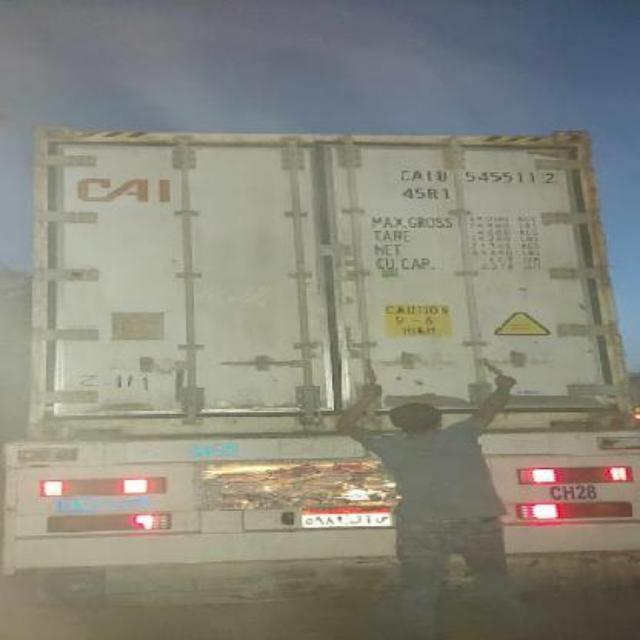1: (528, 172, 542, 184), (518, 172, 524, 184)
2: (544, 173, 556, 185)
4: (478, 172, 490, 182)
5: (464, 170, 476, 182), (490, 172, 502, 182), (502, 172, 514, 182)
A: (412, 171, 422, 181)
C: (400, 169, 412, 181)
I: (424, 171, 434, 181)
U: (436, 170, 448, 182)
